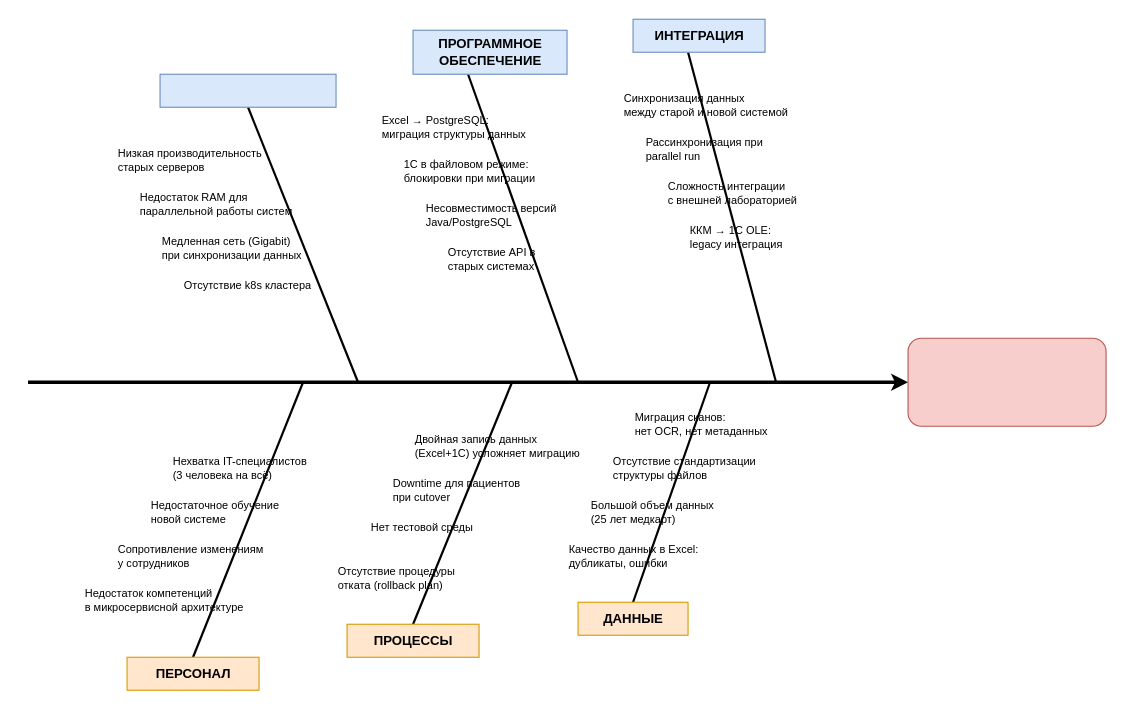
The diagram is 1125 pixels wide and 710 high, and some of its shapes have lost their labels. Here are the shapes that lost their labels. From the top down, the centre of each, then its label:
At (247,90): "ИНФРАСТРУКТУРА".
At (1006,381): "УЗКИЕ МЕСТА ПРИ МИГРАЦИИ".
